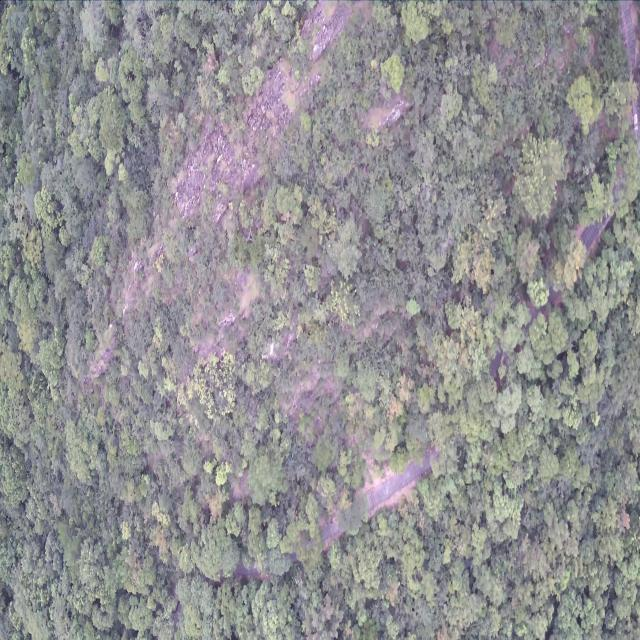drone: (266, 342, 277, 361)
